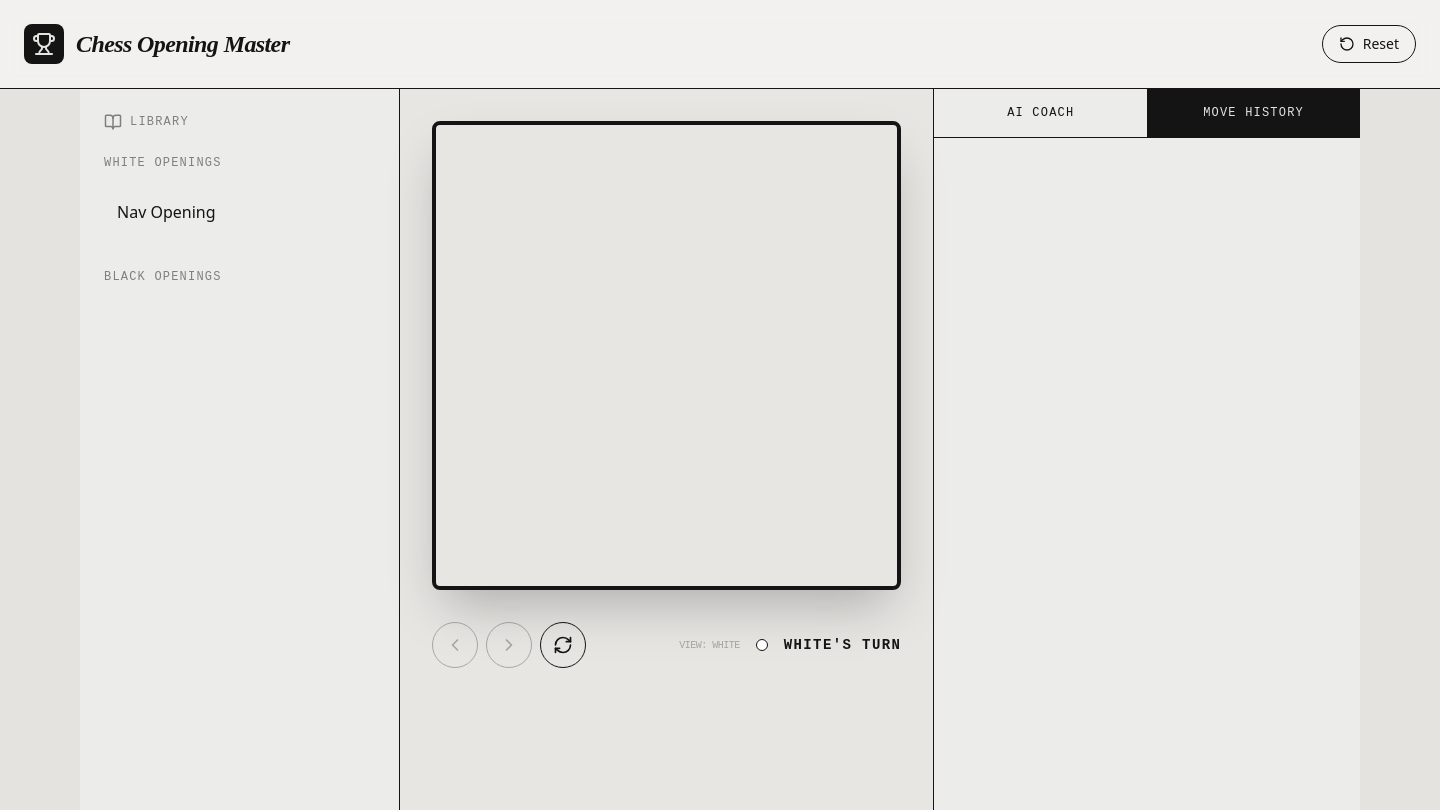
Test: App Component › Back/Forward Navigation › back button becomes disabled at the starting position
Expected: the text "Nav Opening" is shown, [117,200,216,224]
Click the button "Nav Opening": [166, 212] box [104,187,375,237]
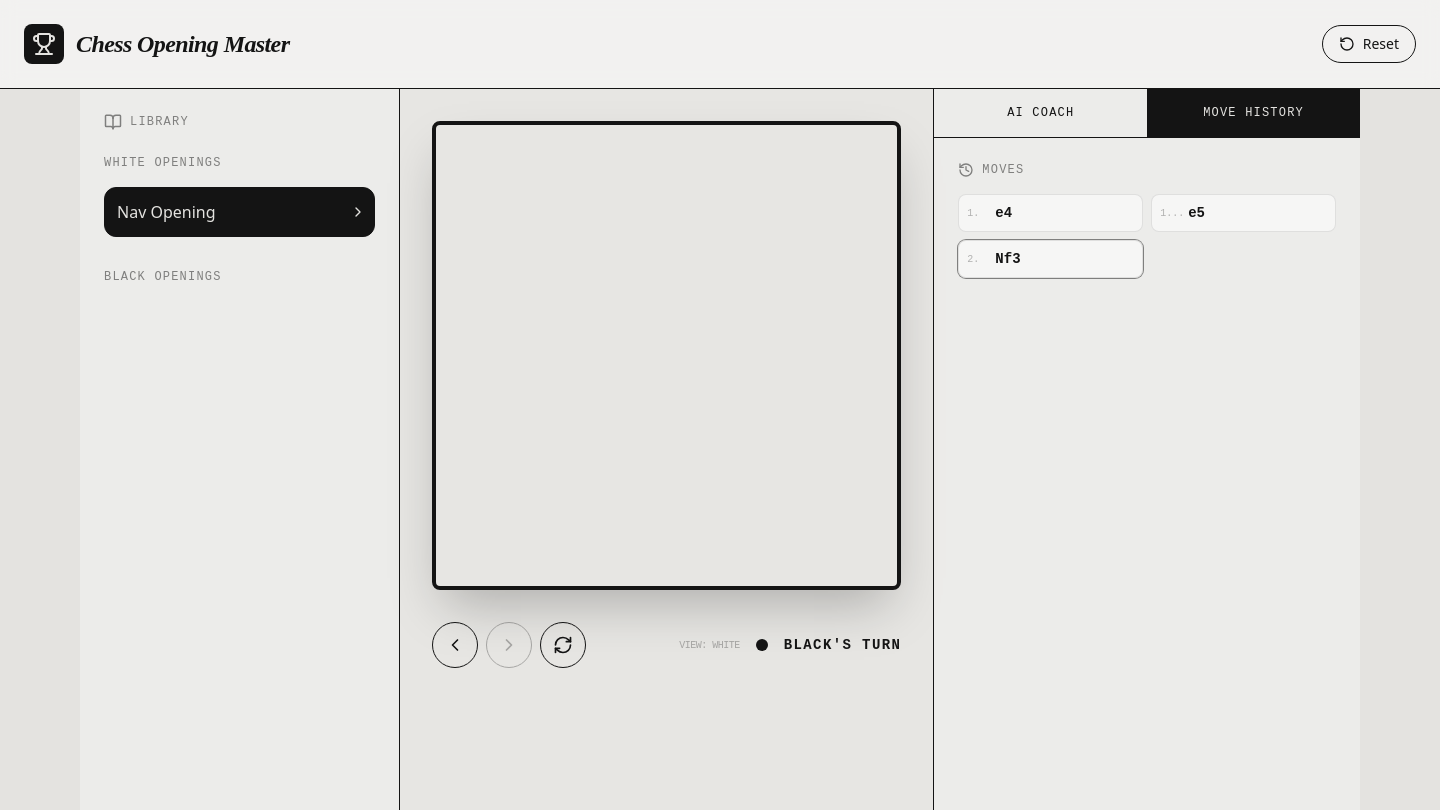
Click the button titled "Go Back": [455, 645] box [432,622,478,668]
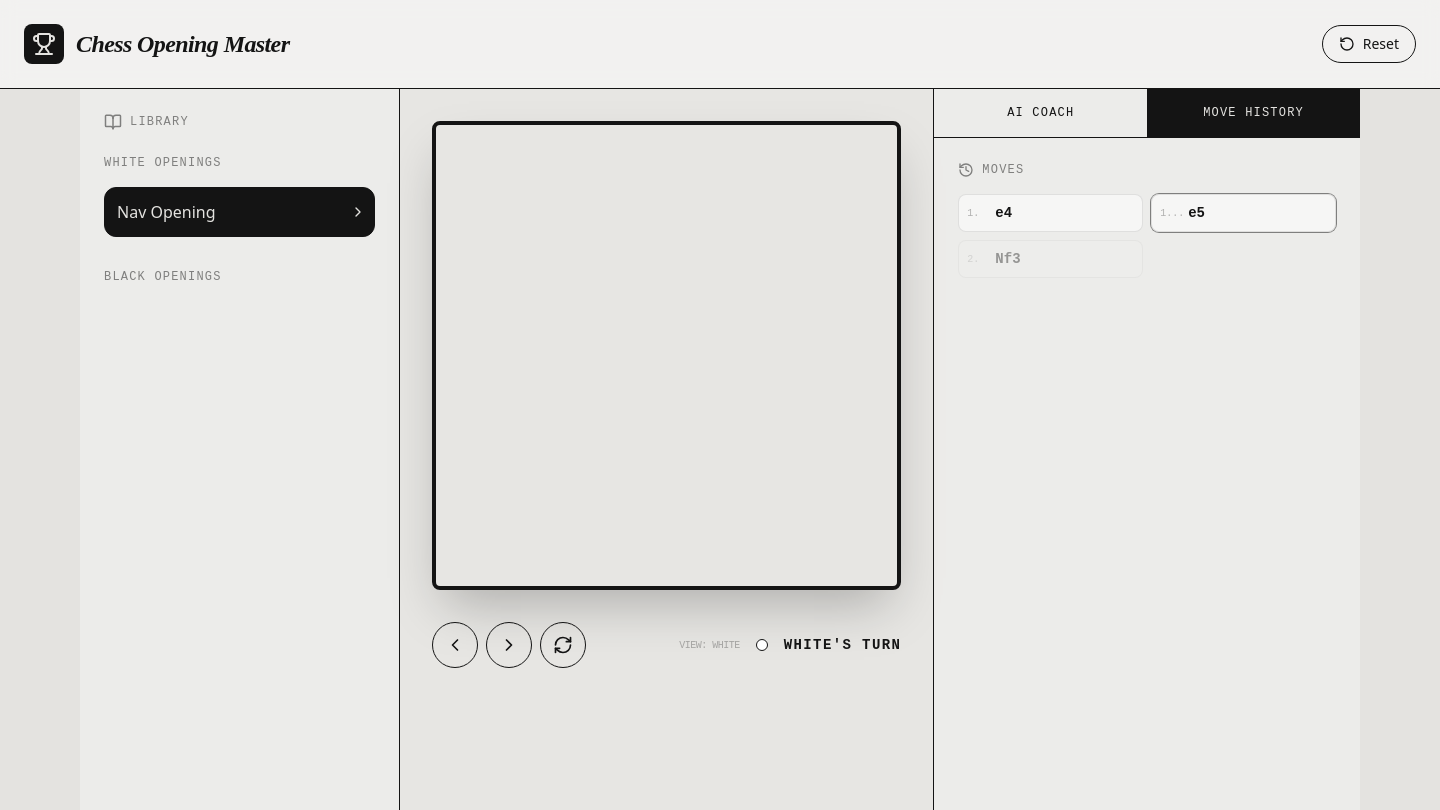
Click the button titled "Go Back": [455, 645] box [432,622,478,668]
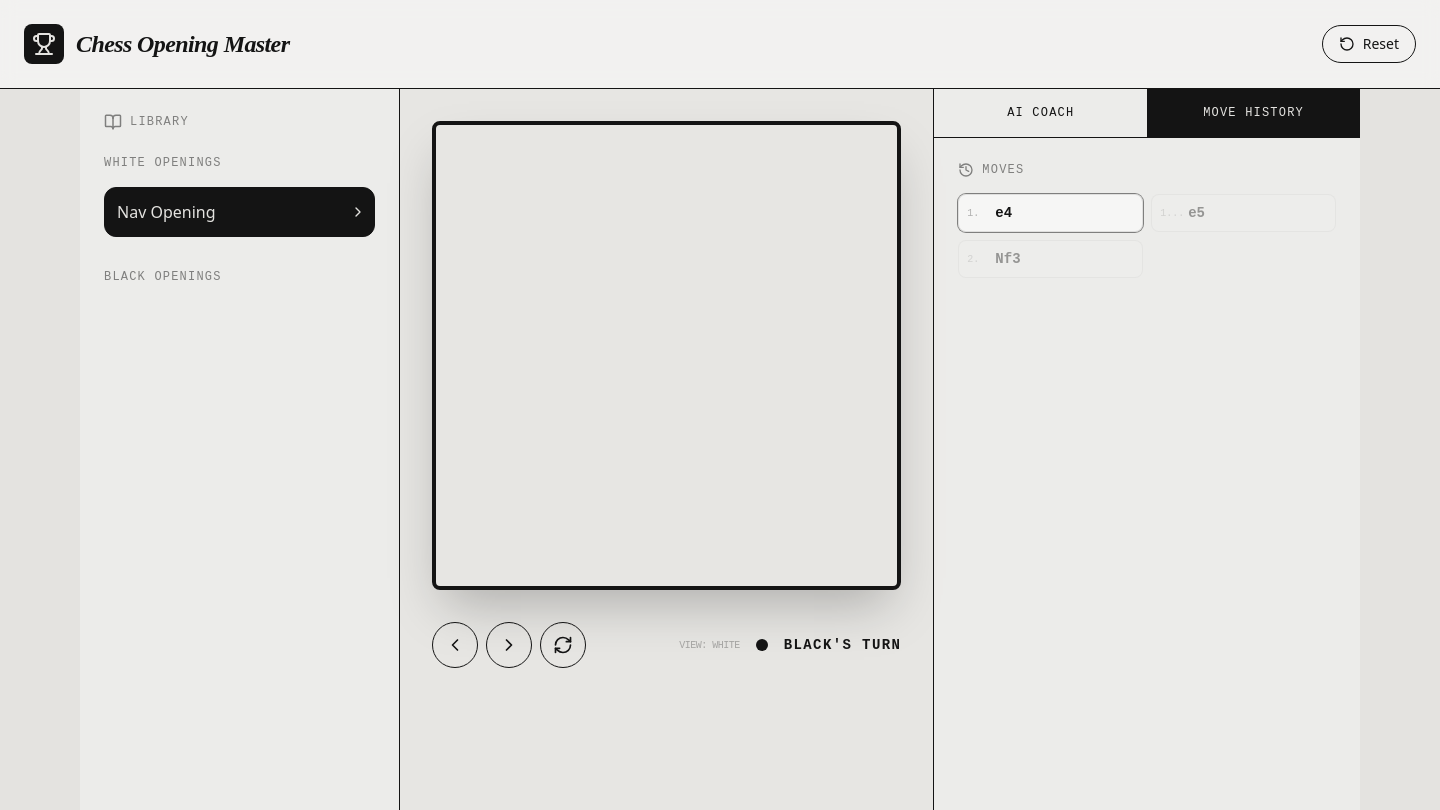
Click the button titled "Go Back": [455, 645] box [432,622,478,668]
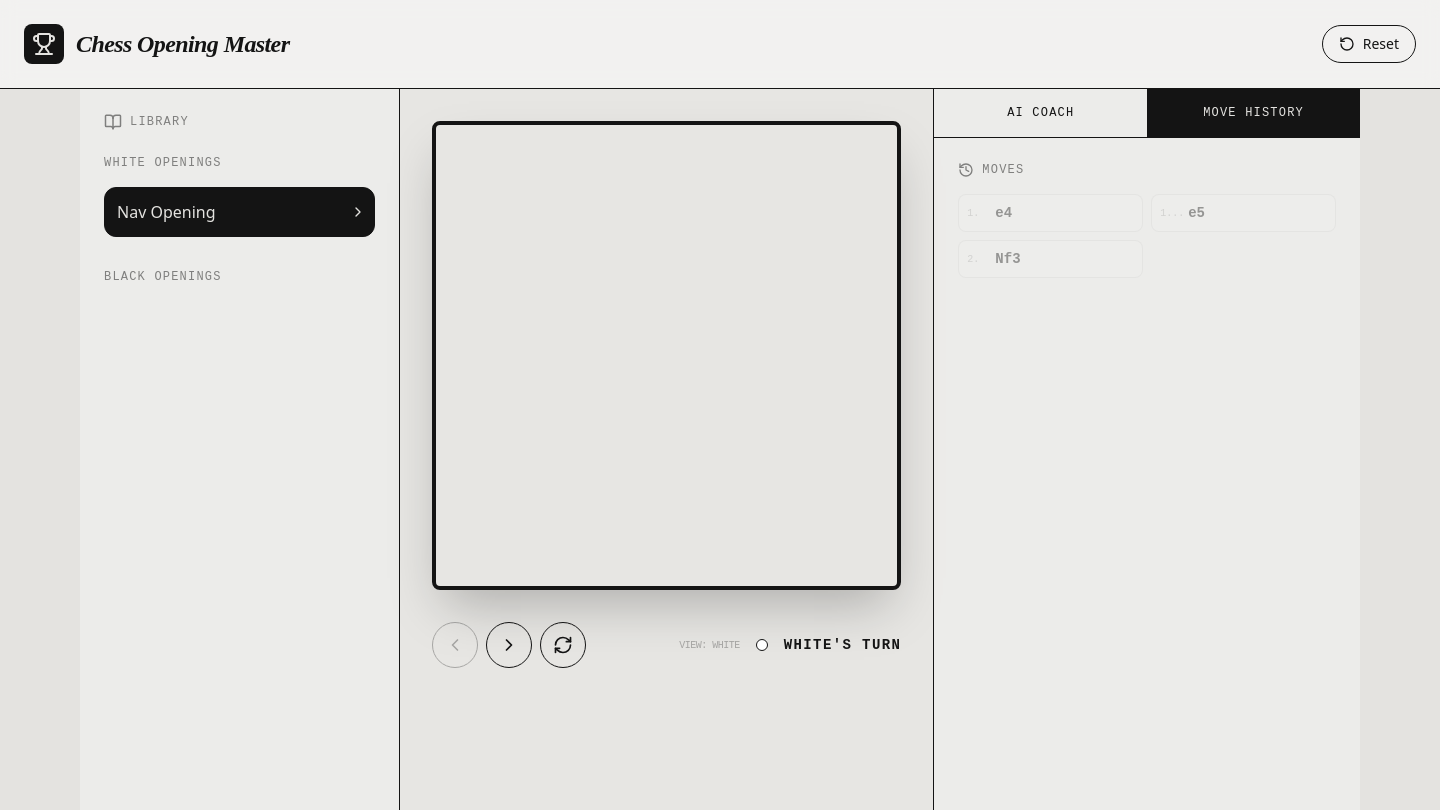
Expected: the button titled "Go Back" is disabled, [432,622,478,668]
